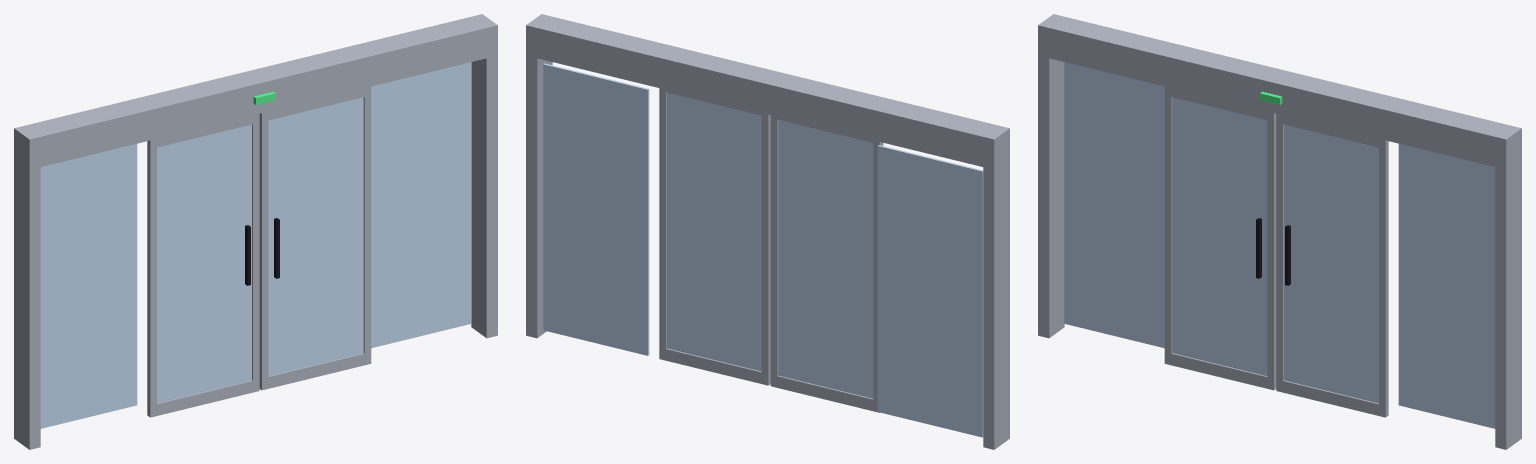
Rendered from porta_scorrevole.glb.
3 views of the same model, side by side, from view 1: azimuth 30°, elevation 25°; view 2: azimuth 150°, elevation 25°; view 3: azimuth 330°, elevation 25° (orthographic).
Visible parts, largest first — view 1: vetro_fisso.001, vetro_fisso, vetro.001, vetro, architrave, montante, montante.001, telaio.006, telaio.002, telaio.007, telaio.003, telaio (+3 smaller); view 2: vetro_fisso, vetro_fisso.001, vetro, vetro.001, architrave, montante, montante.001, telaio.006, telaio.003, telaio.007, telaio.004, telaio (+1 smaller); view 3: vetro_fisso, vetro_fisso.001, vetro, vetro.001, architrave, montante.001, montante, telaio.007, telaio.003, telaio.002, telaio.006, telaio (+3 smaller).
Part boxes in pixels (x1=…): vetro_fisso.001: x1=371, y1=62, x2=471, y2=348; vetro_fisso: x1=40, y1=143, x2=137, y2=428; vetro.001: x1=268, y1=97, x2=363, y2=375; vetro: x1=157, y1=124, x2=251, y2=403; architrave: x1=14, y1=14, x2=497, y2=169; montante: x1=14, y1=159, x2=40, y2=449; montante.001: x1=471, y1=55, x2=497, y2=338; telaio.006: x1=259, y1=111, x2=268, y2=389; telaio.002: x1=147, y1=140, x2=156, y2=416; telaio.007: x1=363, y1=86, x2=371, y2=365; telaio.003: x1=252, y1=115, x2=259, y2=389; telaio: x1=147, y1=380, x2=259, y2=417; vetro_fisso: x1=877, y1=145, x2=983, y2=437; vetro_fisso.001: x1=543, y1=63, x2=649, y2=355; vetro: x1=778, y1=120, x2=873, y2=398; vetro.001: x1=667, y1=92, x2=761, y2=371; architrave: x1=526, y1=14, x2=1009, y2=169; montante: x1=983, y1=159, x2=1009, y2=449; montante.001: x1=526, y1=55, x2=552, y2=338; telaio.006: x1=761, y1=113, x2=770, y2=385; telaio.003: x1=770, y1=118, x2=778, y2=376; telaio.007: x1=659, y1=91, x2=666, y2=354; telaio.004: x1=659, y1=347, x2=770, y2=385; telaio: x1=770, y1=374, x2=878, y2=412; vetro_fisso: x1=1064, y1=62, x2=1164, y2=348; vetro_fisso.001: x1=1398, y1=143, x2=1495, y2=428; vetro: x1=1172, y1=97, x2=1267, y2=375; vetro.001: x1=1284, y1=124, x2=1378, y2=403; architrave: x1=1038, y1=14, x2=1521, y2=169; montante.001: x1=1495, y1=159, x2=1521, y2=449; montante: x1=1038, y1=55, x2=1064, y2=338; telaio.007: x1=1379, y1=139, x2=1388, y2=417; telaio.003: x1=1267, y1=113, x2=1276, y2=382; telaio.002: x1=1164, y1=95, x2=1172, y2=364; telaio.006: x1=1276, y1=115, x2=1283, y2=390; telaio: x1=1164, y1=352, x2=1276, y2=390.
Size of the model in its own units: 4.2 by 2.66 by 0.275.
